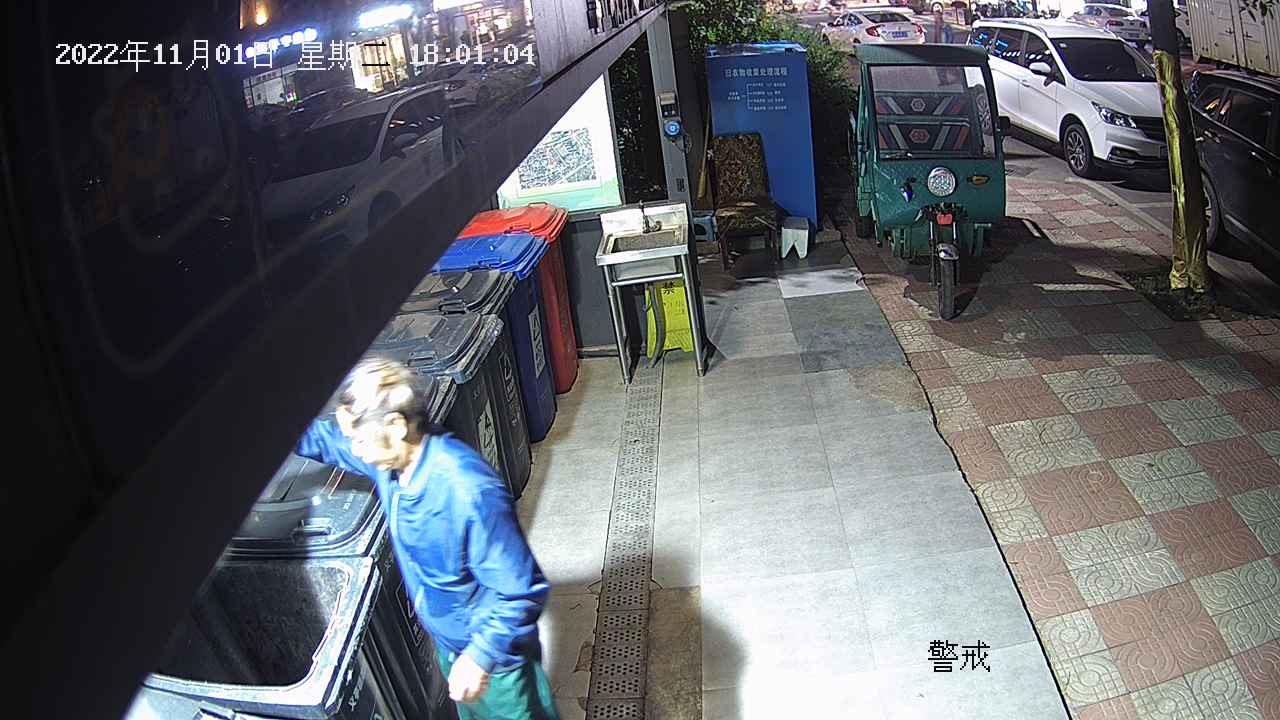worker: (290, 354, 561, 720)
